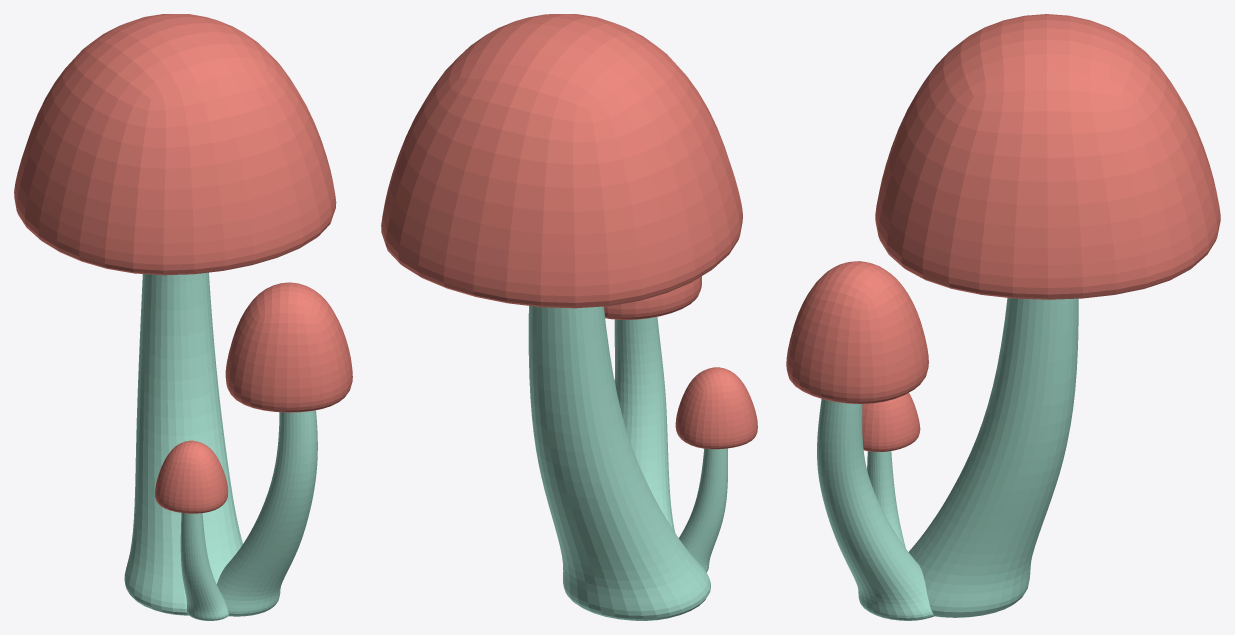
The model's file is shroom_triplet.fbx.
3 views of the same model, side by side, from view 1: azimuth 30°, elevation 25°; view 2: azimuth 150°, elevation 25°; view 3: azimuth 270°, elevation 25° (orthographic). The views are drawn at different scales.
Parts seen in each view (by area): view 1: Cube.009; view 2: Cube.009; view 3: Cube.009.
Boxes of the visible parts, x1=… form: Cube.009: x1=14, y1=14, x2=352, y2=620; Cube.009: x1=381, y1=14, x2=757, y2=620; Cube.009: x1=786, y1=14, x2=1220, y2=620.
Size of the model in its own units: 290 by 540 by 364.
